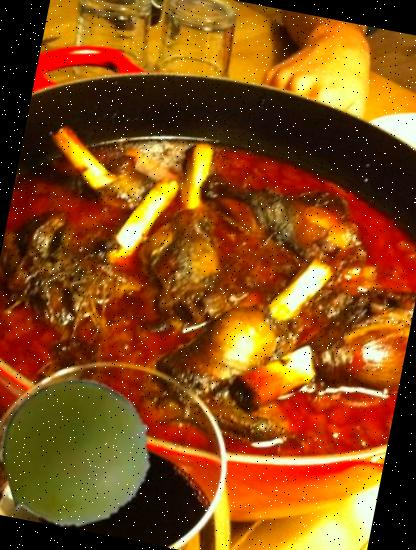Grape: (0, 365, 164, 540)
